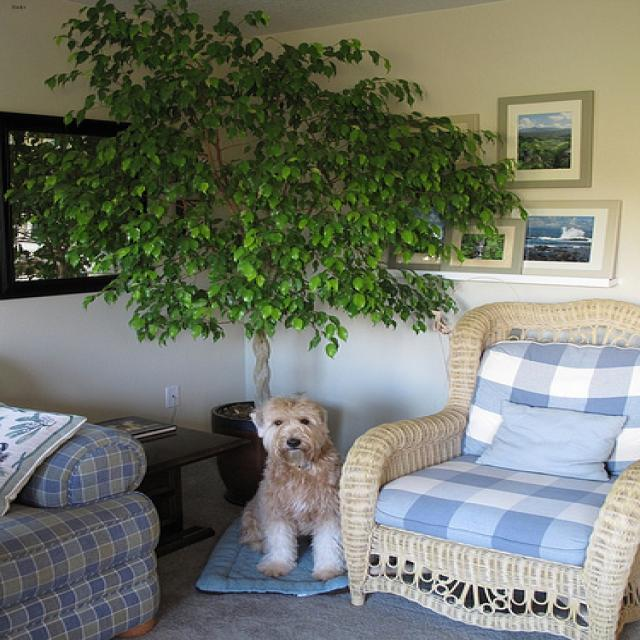dog-wheaten_terrier: (224, 385, 352, 590)
